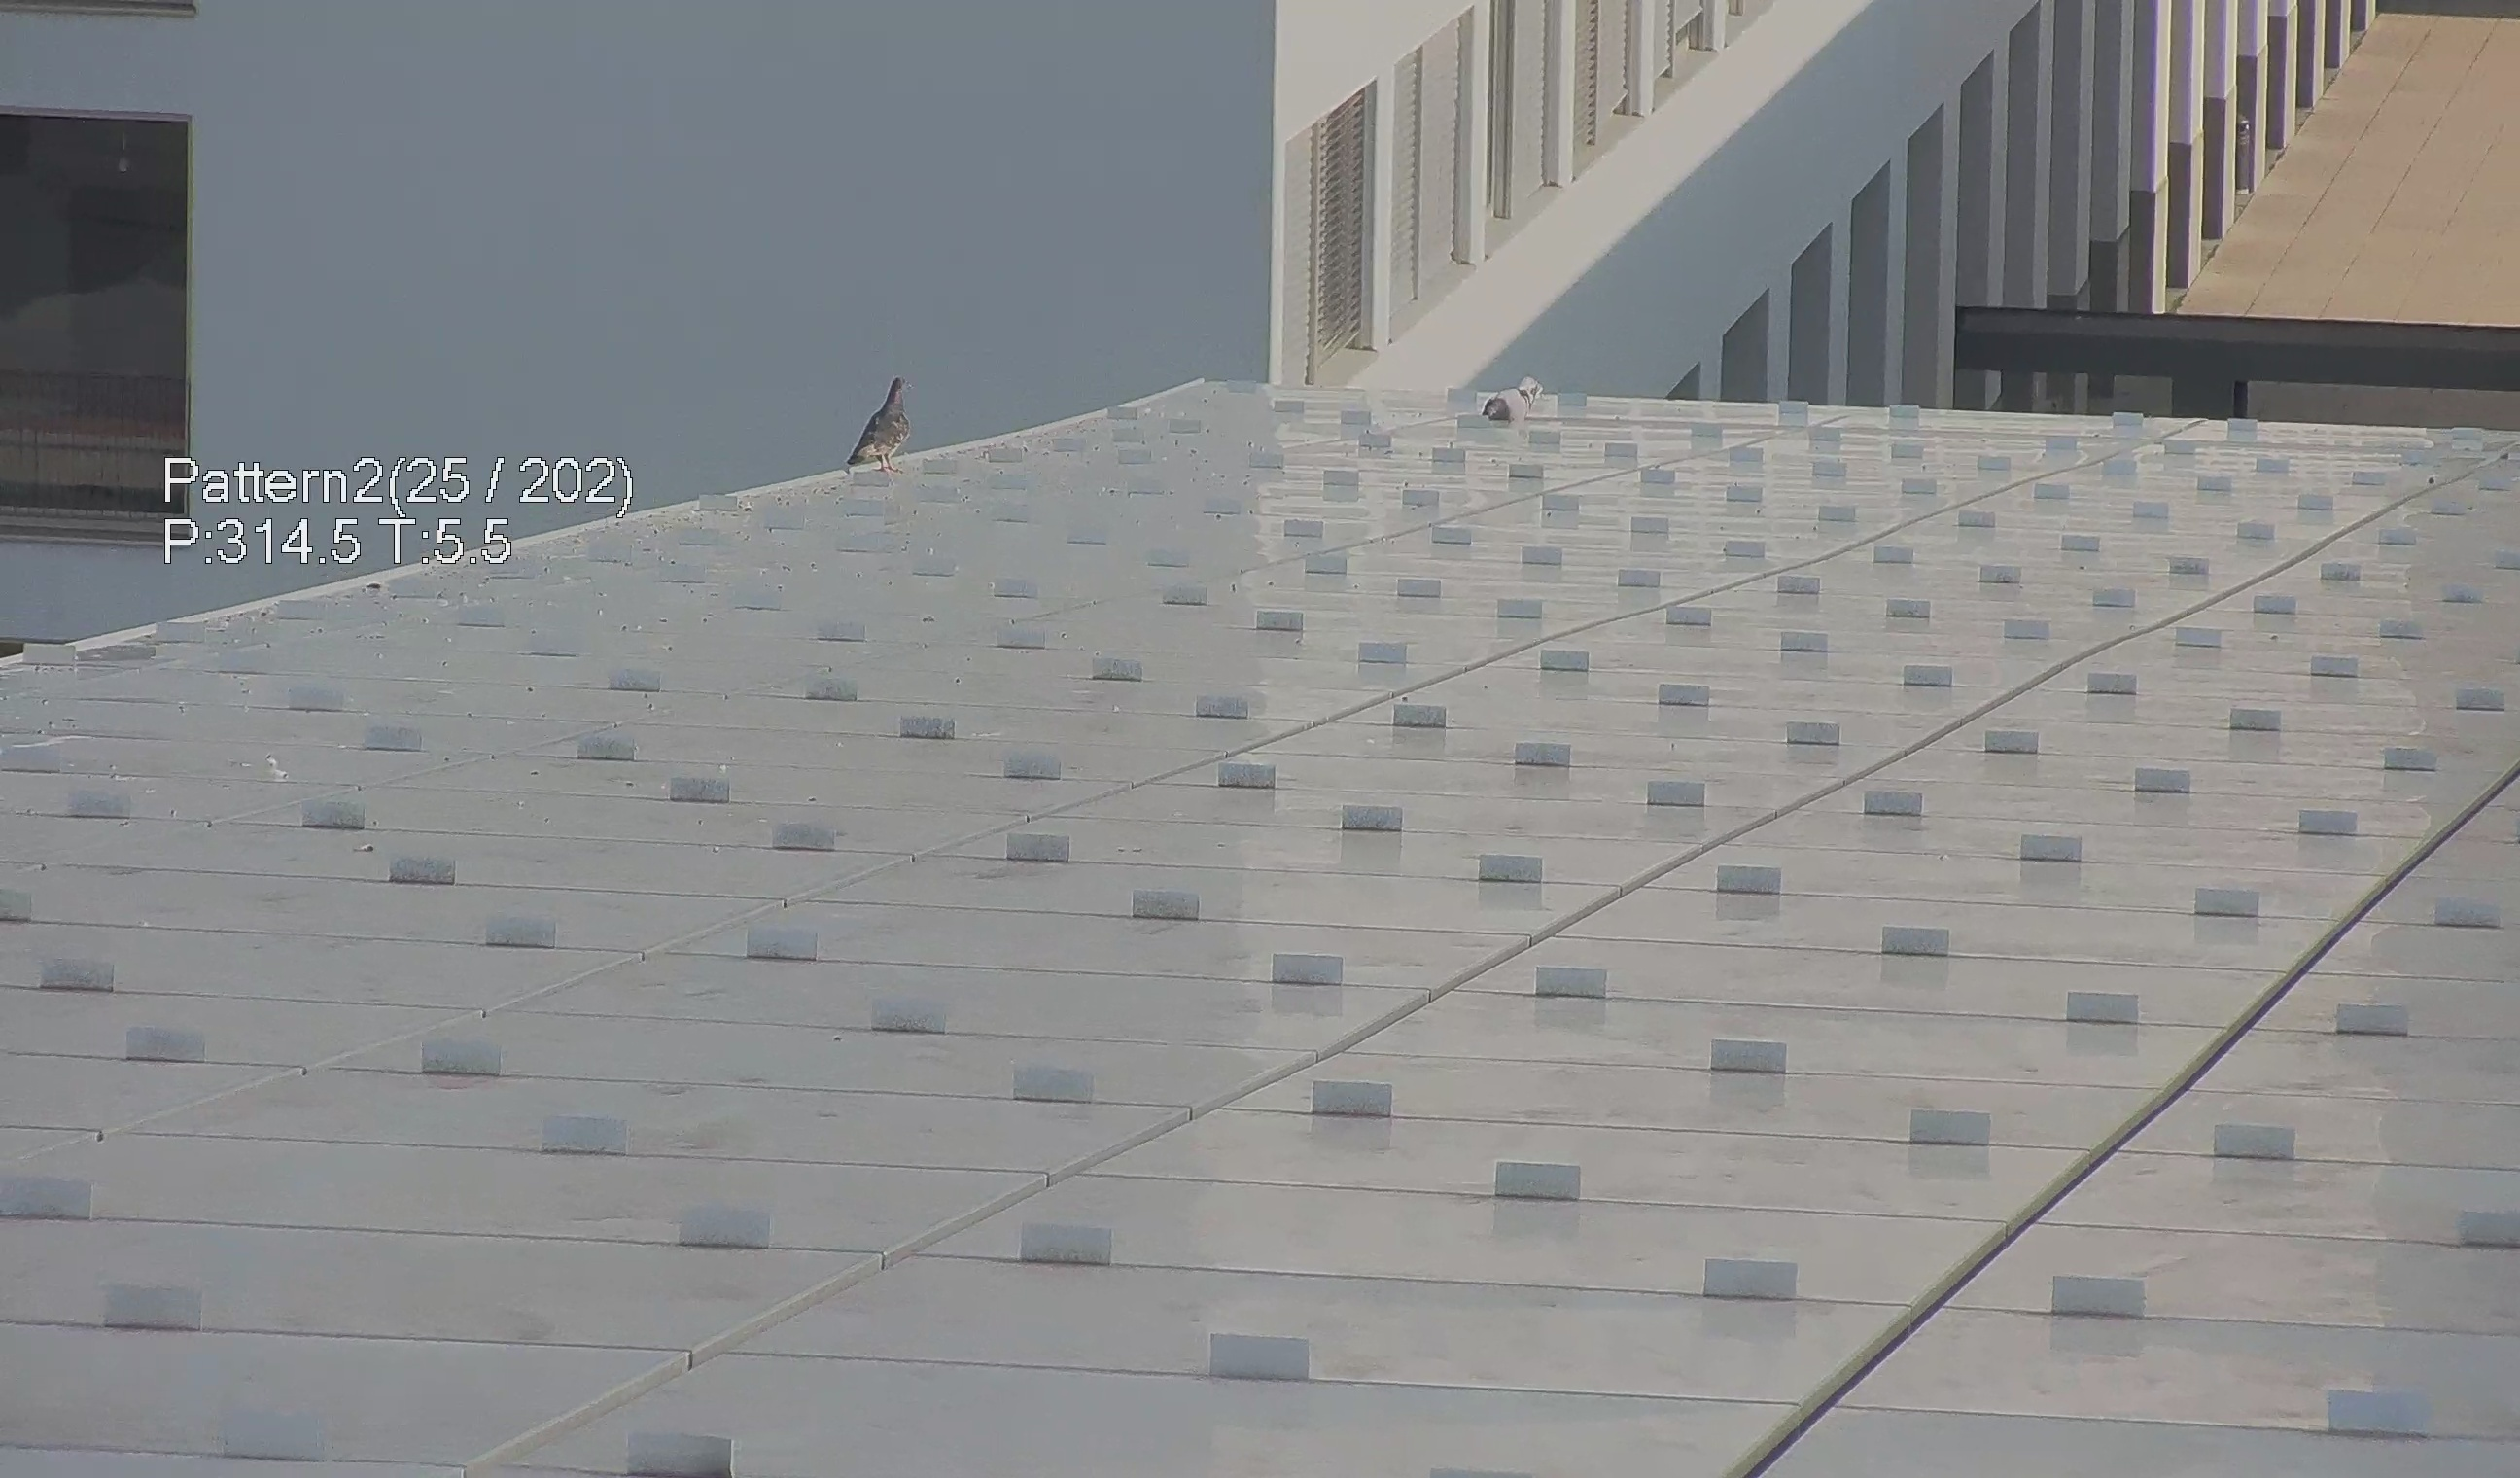Pigeon: (823, 362, 916, 486), (1470, 357, 1562, 431)
